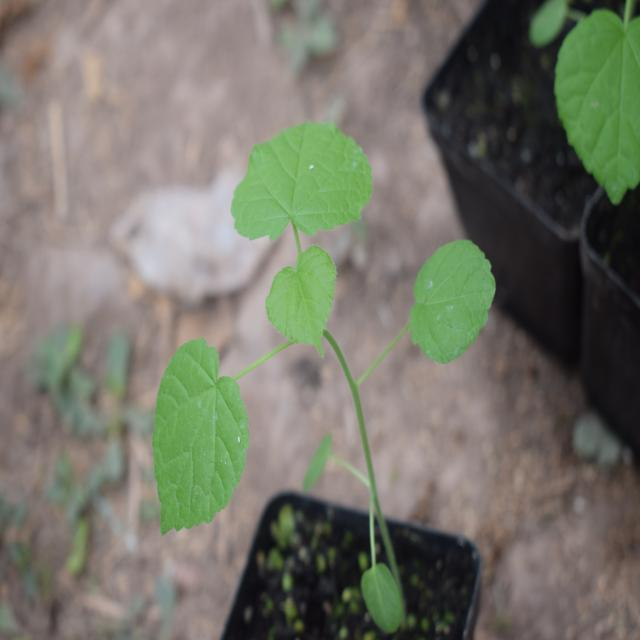abutilon theophrasti: (120, 95, 500, 559)
